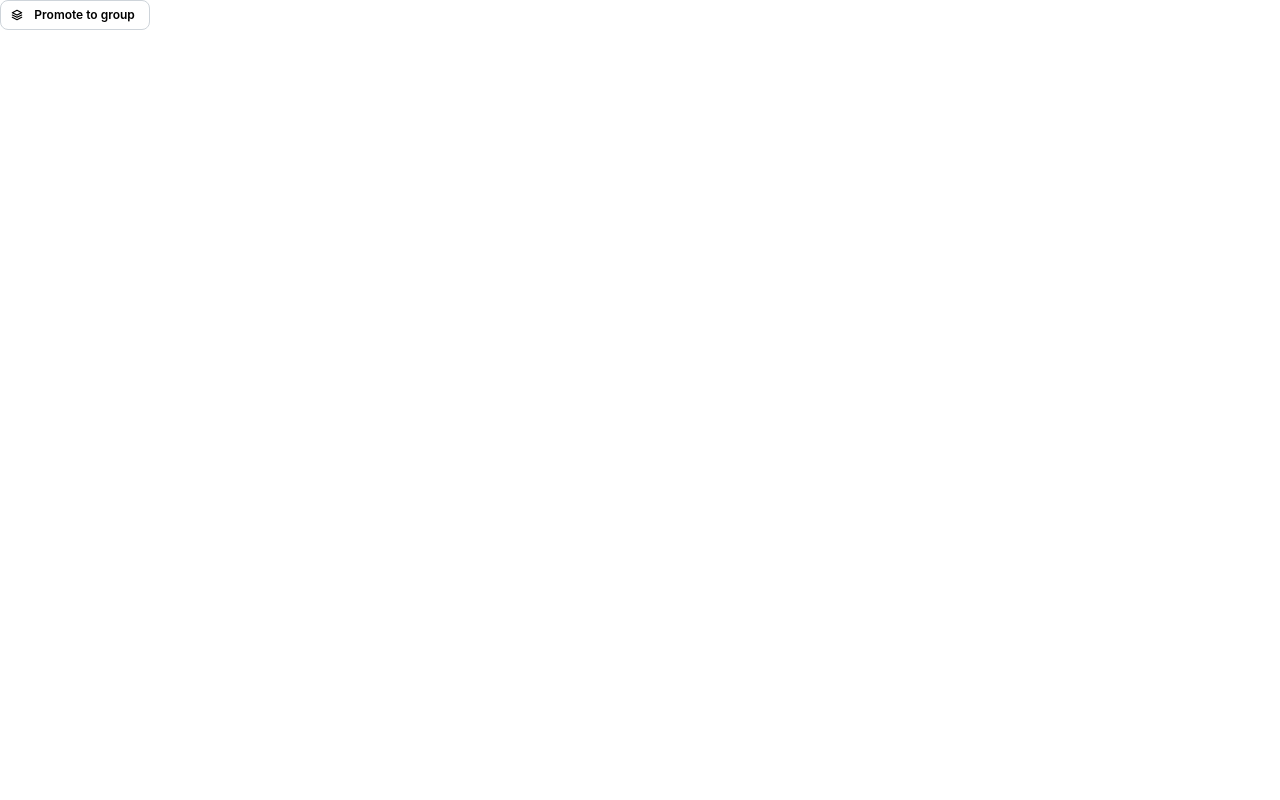
Scenario: PromoteGroup › shows what promoting does, then promotes
Later steps or results of the test are not shown.
Click the button "Promote to group". click: [75, 15]
box: x1=0 y1=0 x2=150 y2=30
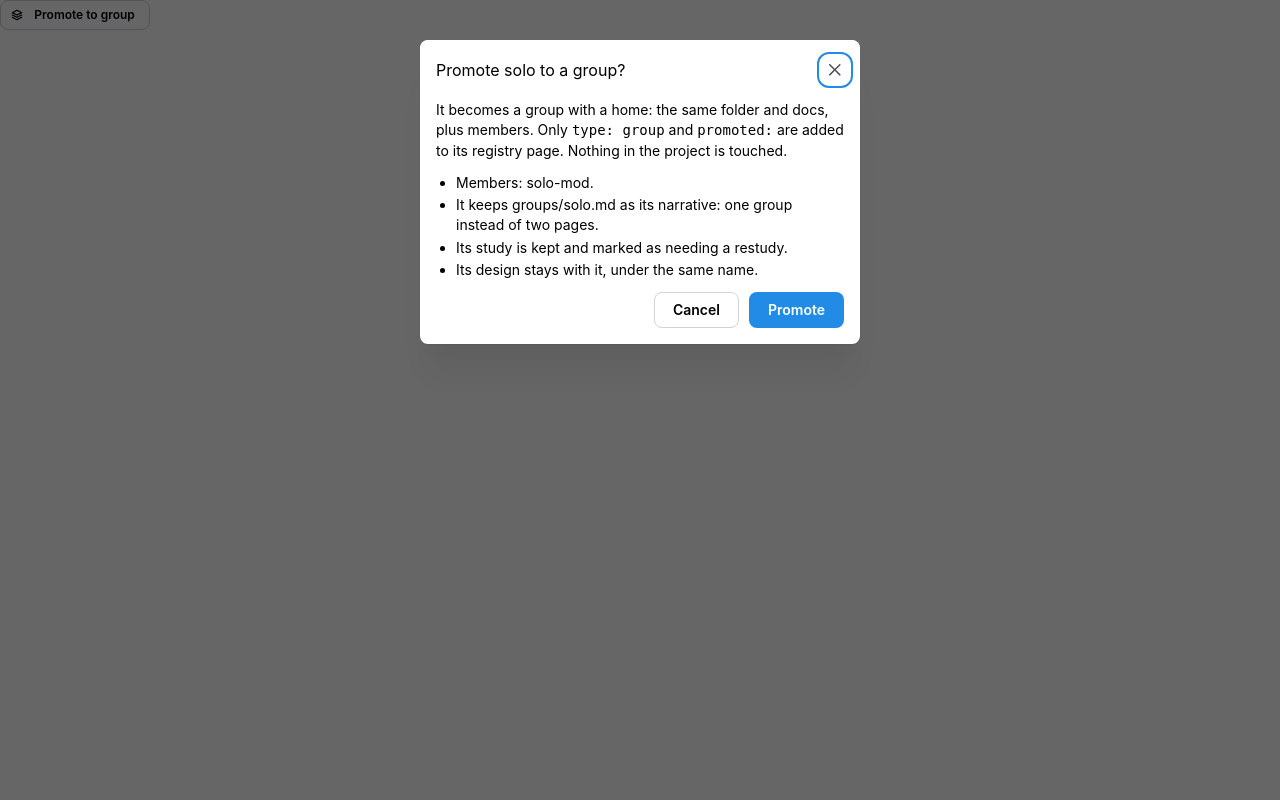
Expected: the text "Members: solo-mod." is shown, x1=456 y1=173 x2=594 y2=193
Expected: the text "keeps groups/solo.md as its narrative" is shown, x1=456 y1=195 x2=844 y2=236
Expected: the text "Its study is kept and marked as needing a restudy." is shown, x1=456 y1=238 x2=788 y2=258
